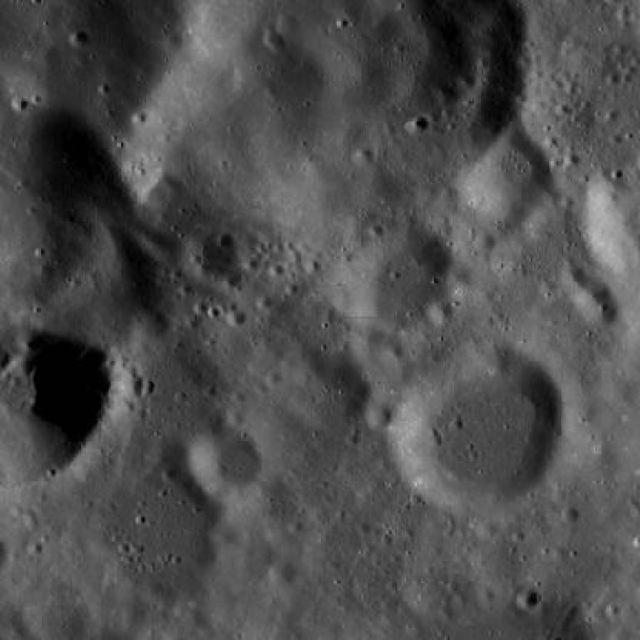crater: (98, 0, 516, 251), (391, 348, 567, 516), (78, 468, 222, 604), (0, 102, 117, 268), (0, 316, 105, 481), (49, 233, 171, 349), (341, 227, 456, 336), (458, 130, 554, 221), (0, 202, 75, 313), (288, 352, 370, 428), (222, 475, 302, 551), (189, 426, 262, 496), (23, 583, 88, 640), (182, 232, 238, 286), (142, 174, 184, 214), (146, 436, 188, 474), (572, 276, 612, 315), (350, 326, 390, 364), (603, 372, 640, 408), (586, 295, 620, 328), (134, 309, 168, 342), (147, 229, 181, 262), (563, 398, 597, 430), (327, 0, 364, 23), (560, 264, 588, 292), (270, 560, 298, 586), (15, 327, 42, 353), (367, 402, 393, 427), (447, 265, 473, 290), (10, 352, 35, 376), (428, 301, 454, 324), (516, 587, 541, 610), (477, 518, 500, 540), (276, 14, 298, 36), (436, 84, 458, 105), (474, 232, 496, 252), (124, 376, 144, 398), (382, 341, 404, 361), (212, 524, 234, 544), (69, 29, 89, 48), (354, 146, 372, 166), (266, 32, 285, 50), (560, 506, 580, 523), (227, 310, 246, 327), (185, 607, 202, 624), (410, 116, 428, 132), (458, 74, 476, 90), (222, 275, 238, 291), (138, 380, 154, 394), (0, 350, 11, 370), (1, 0, 2, 1)
